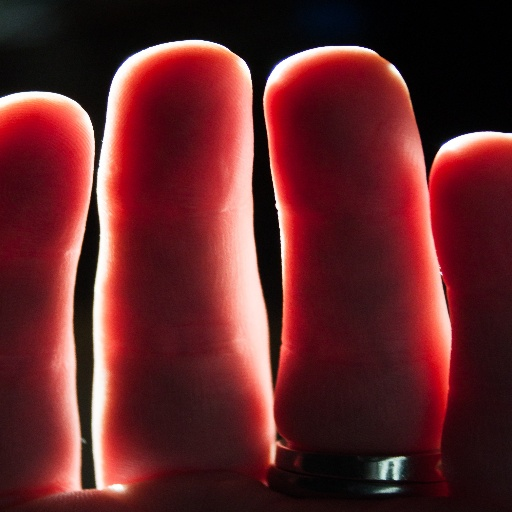hand: (0, 39, 511, 511)
